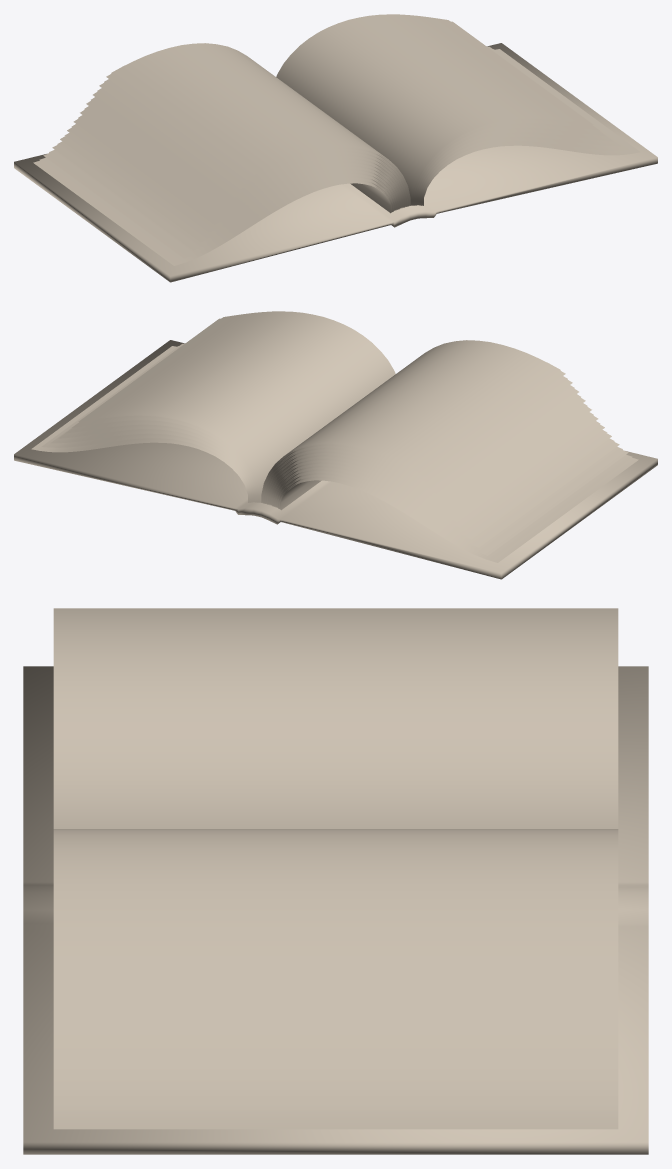
The model's file is sentify_search.glb.
3 views of the same model, one above another, from view 1: azimuth 30°, elevation 25°; view 2: azimuth 150°, elevation 25°; view 3: azimuth 270°, elevation 25° (orthographic). The views are drawn at different scales.
Parts seen in each view (by area): view 1: Pages, Book; view 2: Pages, Book; view 3: Pages, Book.
Part boxes in pixels (x1,y1,x2,y2): Pages: [33, 14, 640, 265]; Book: [14, 43, 657, 282]; Pages: [31, 311, 638, 562]; Book: [14, 340, 657, 579]; Pages: [53, 608, 618, 1129]; Book: [23, 666, 648, 1154].
Size of the model in its own units: 0.648 by 0.114 by 0.36.
